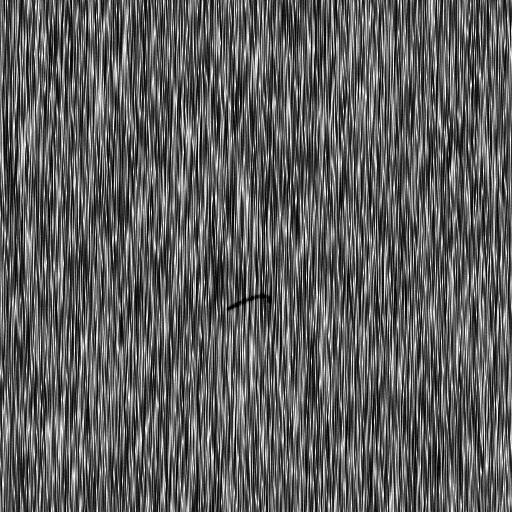DefectTypeC: (225, 295, 271, 313)
